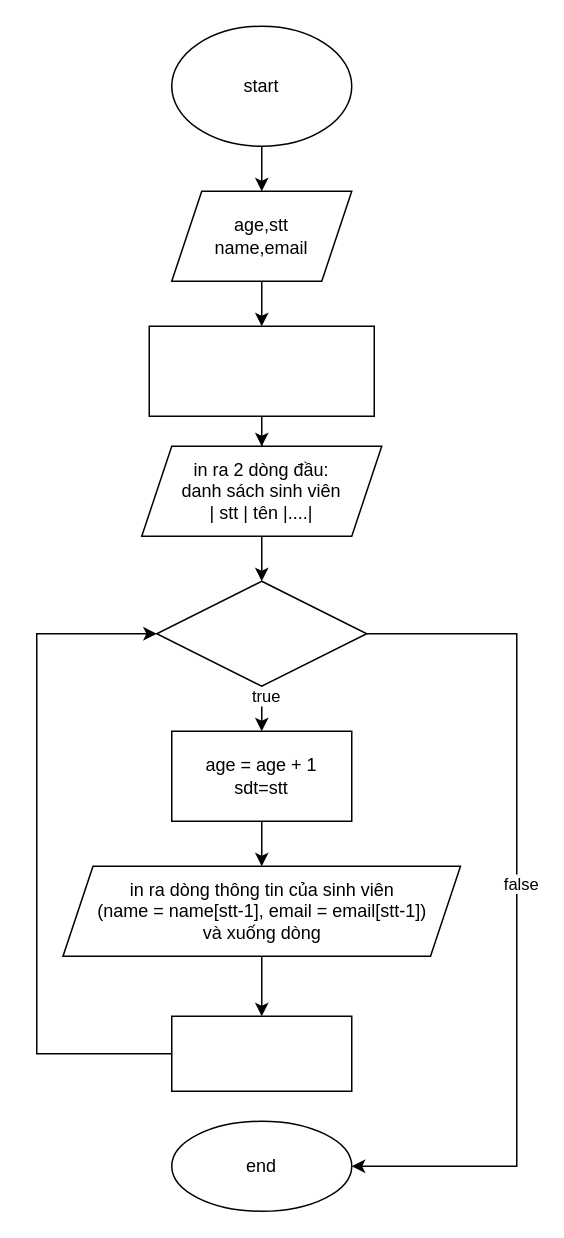
Some shapes in this 564 by 1238 pixel diagram are drawn without their labels. Here are the shapes that lost their labels. From the top down, the centre of each, then its label:
pixel 261 370: stt=1 age=16 name="ABCDEFGHIK" email="abcdefghik"
pixel 261 633: stt<11
pixel 261 1053: stt = stt + 1
